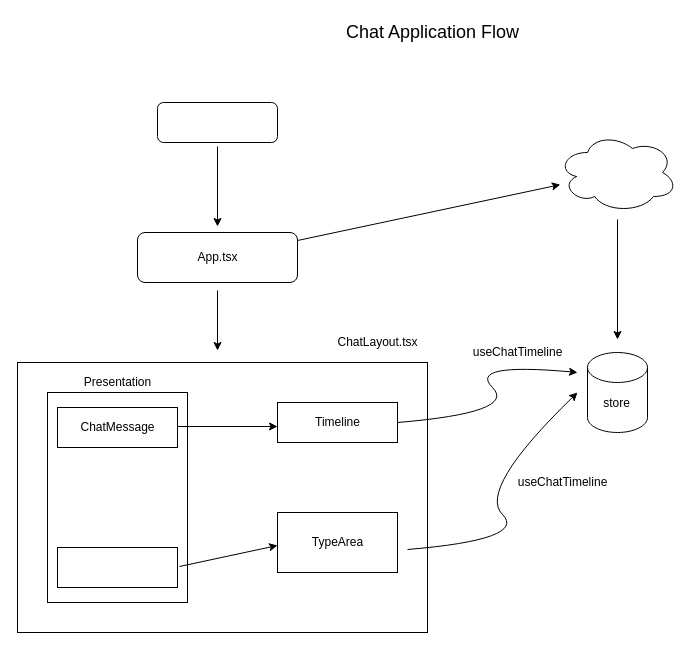
This 695x650 diagram has some shape labels left out. Each missing label, with the box of its shape:
API: (556, 132, 678, 212)
index.tsx: (156, 102, 278, 142)
InputView: (56, 546, 178, 588)
